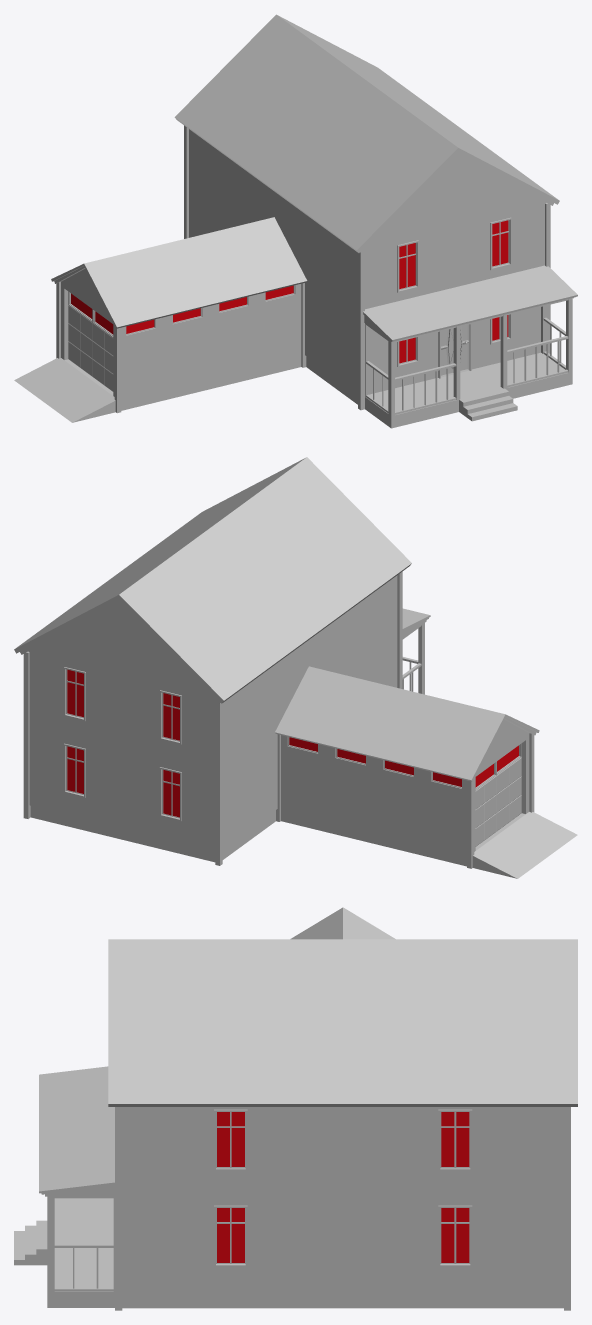
File: SM_ordinary_houses_02.gltf
The picture shows the model from 3 angles, top to bottom: view 1: azimuth 30°, elevation 25°; view 2: azimuth 150°, elevation 25°; view 3: azimuth 270°, elevation 25°; orthographic projection. The views are drawn at different scales.
Parts seen in each view (by area): view 1: ordinary_houses_02; view 2: ordinary_houses_02; view 3: ordinary_houses_02.
Boxes of the visible parts, bbox=[...] form: ordinary_houses_02: bbox=[14, 14, 577, 428]; ordinary_houses_02: bbox=[14, 457, 577, 878]; ordinary_houses_02: bbox=[14, 907, 577, 1310].
Bounding box in the file's own units: 18 × 9.75 × 16.
